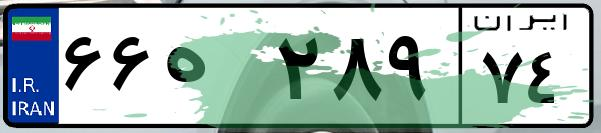2: (270, 28, 330, 110)
4: (525, 38, 570, 115)
6: (57, 26, 110, 100), (110, 28, 158, 98)
7: (475, 38, 525, 113)
8: (330, 28, 385, 110)
9: (385, 28, 445, 110)
ه: (158, 20, 270, 120)
